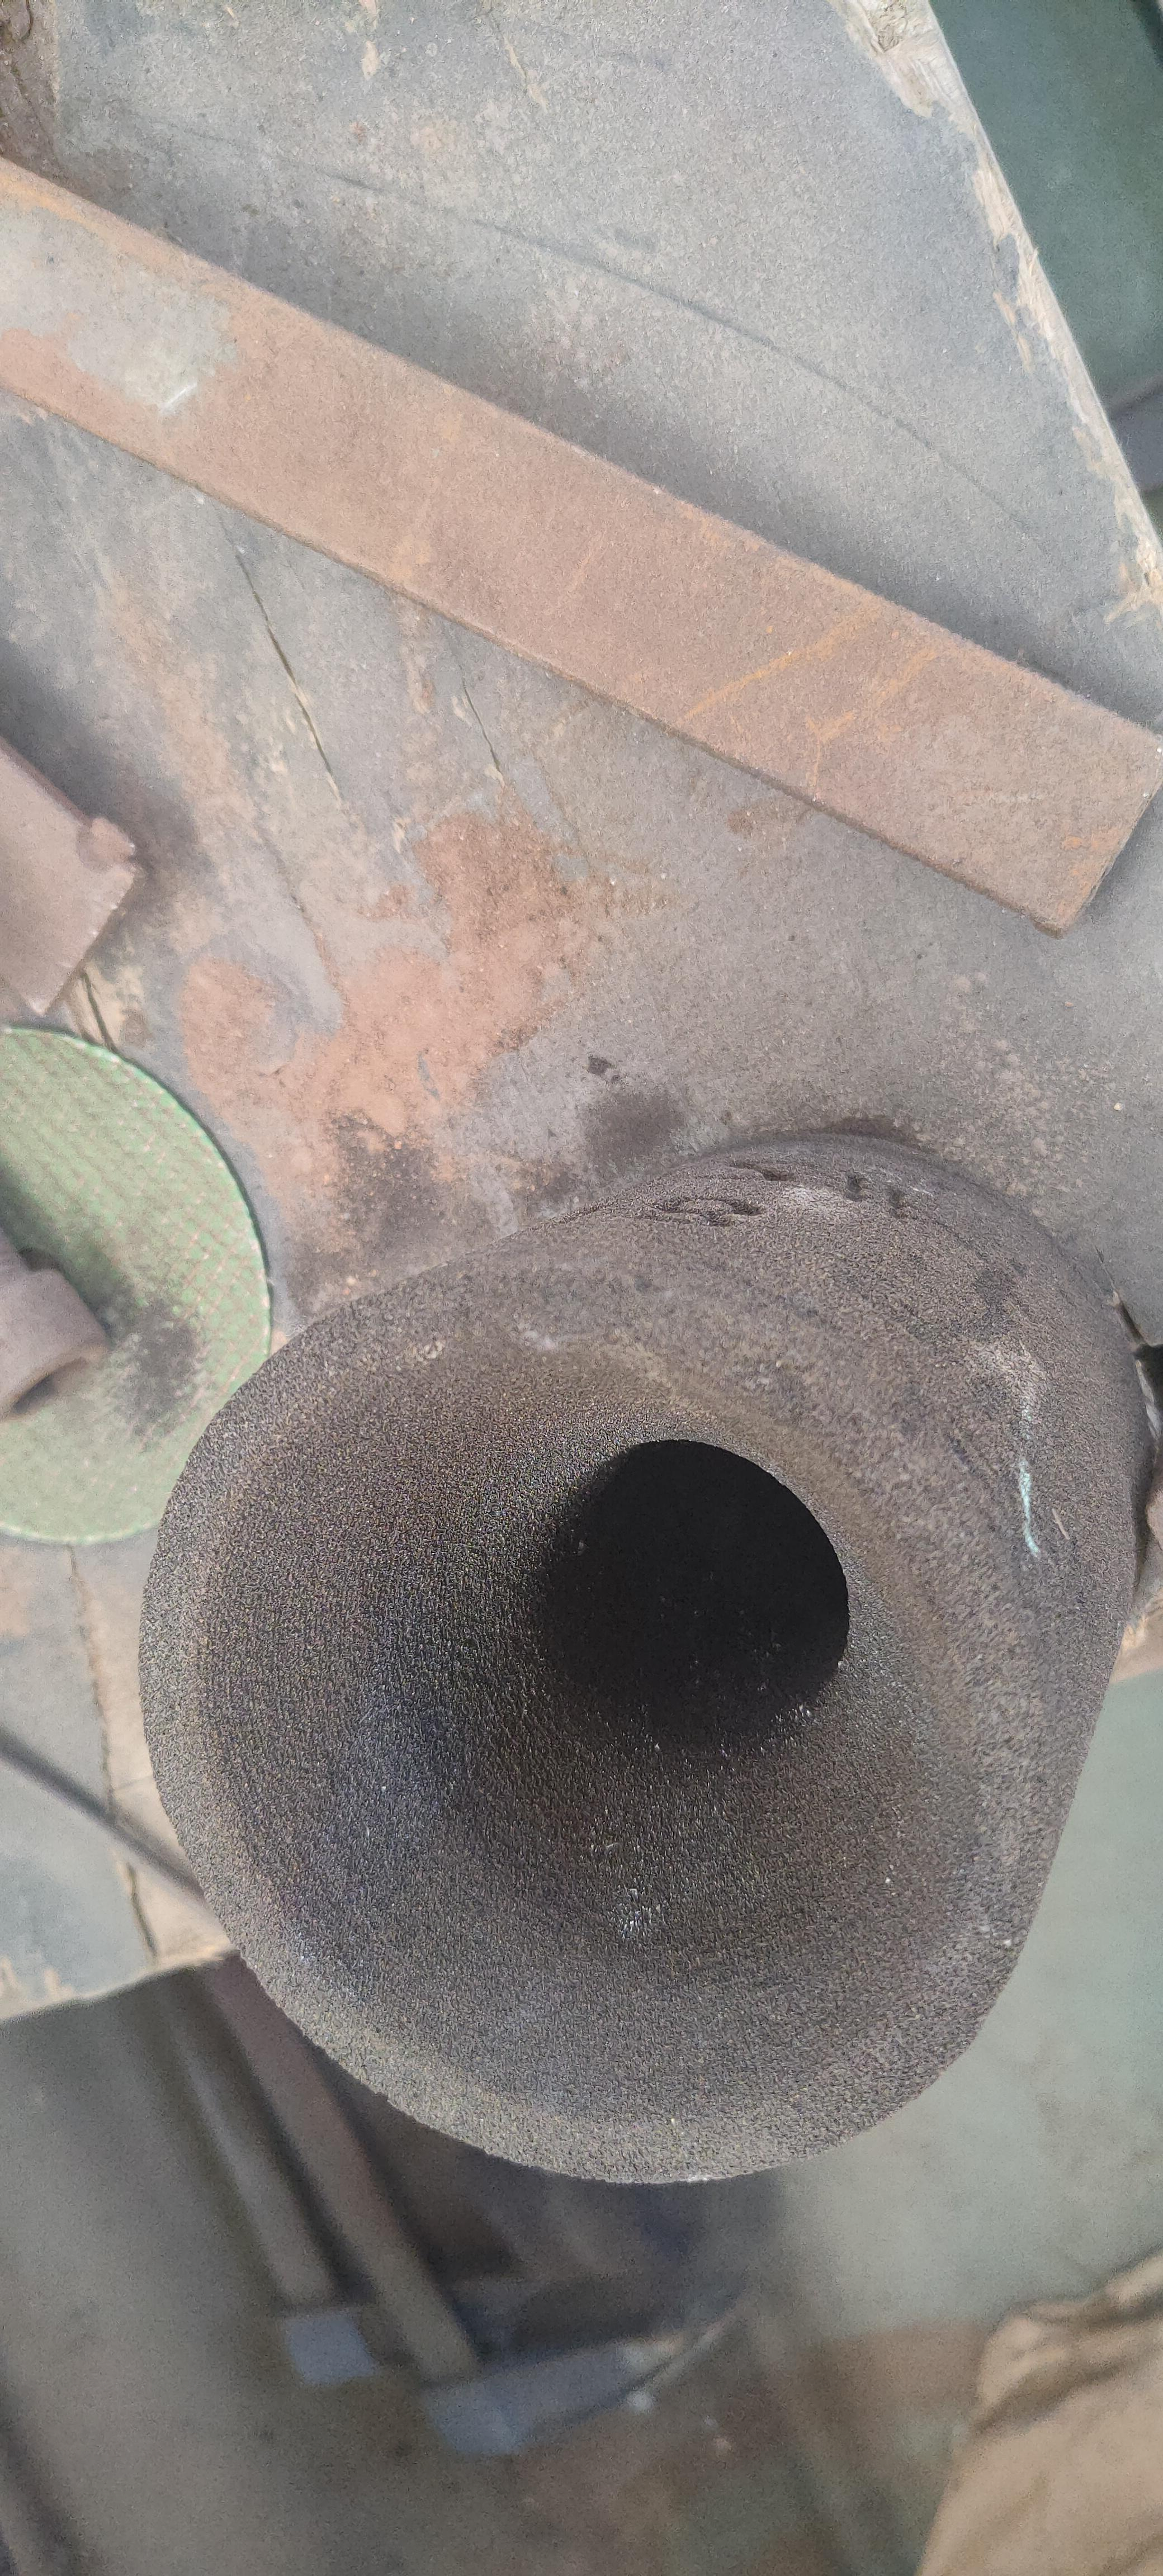pouring hole: (205, 1319, 974, 2141)
